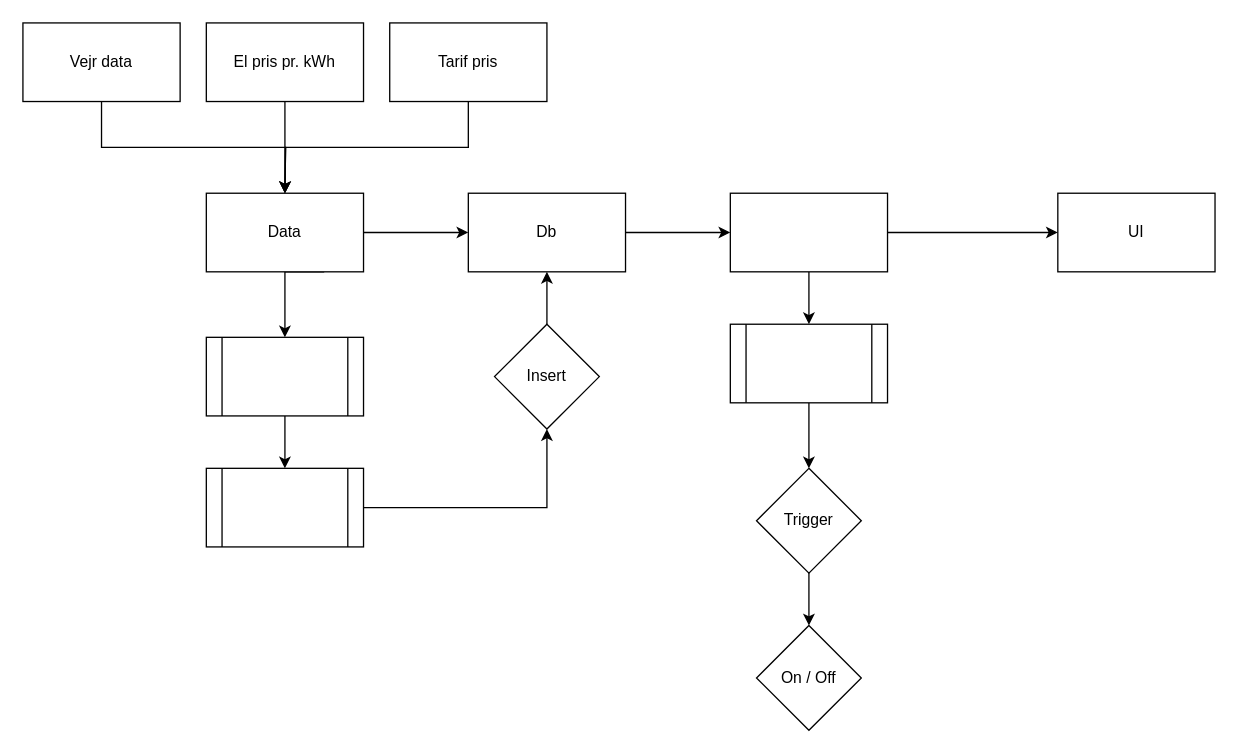
The diagram is 1238 pixels wide and 753 high, and some of its shapes have lost their labels. Each missing label, with the centre of its shape:
"Api" belongs at (284,376).
"Format" belongs at (284,507).
"Func" belongs at (808,363).
"Nodered" belongs at (808,232).
